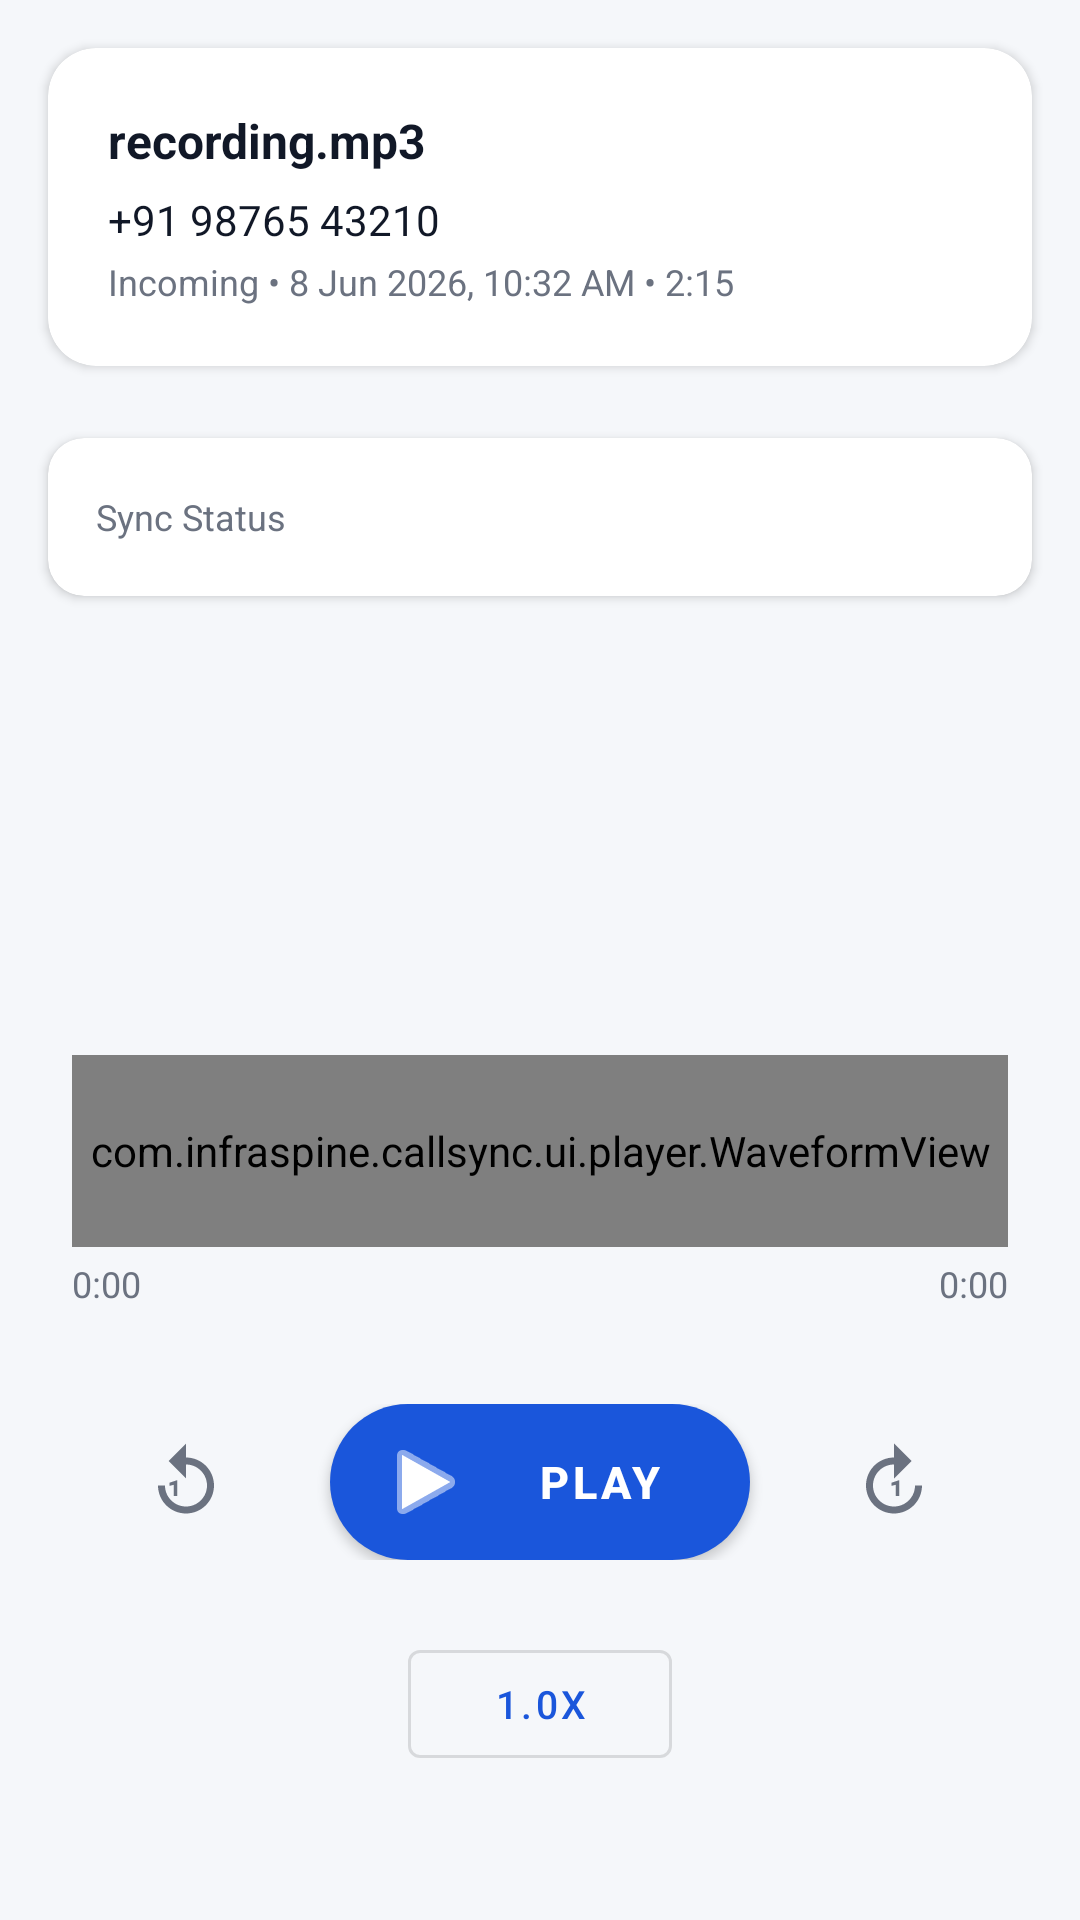

Icons on this 1080px x 1920px Android screen, each with the point to tap as [x,y]:
Skip back 10 seconds: [186,1479]
Skip forward 10 seconds: [894,1478]
